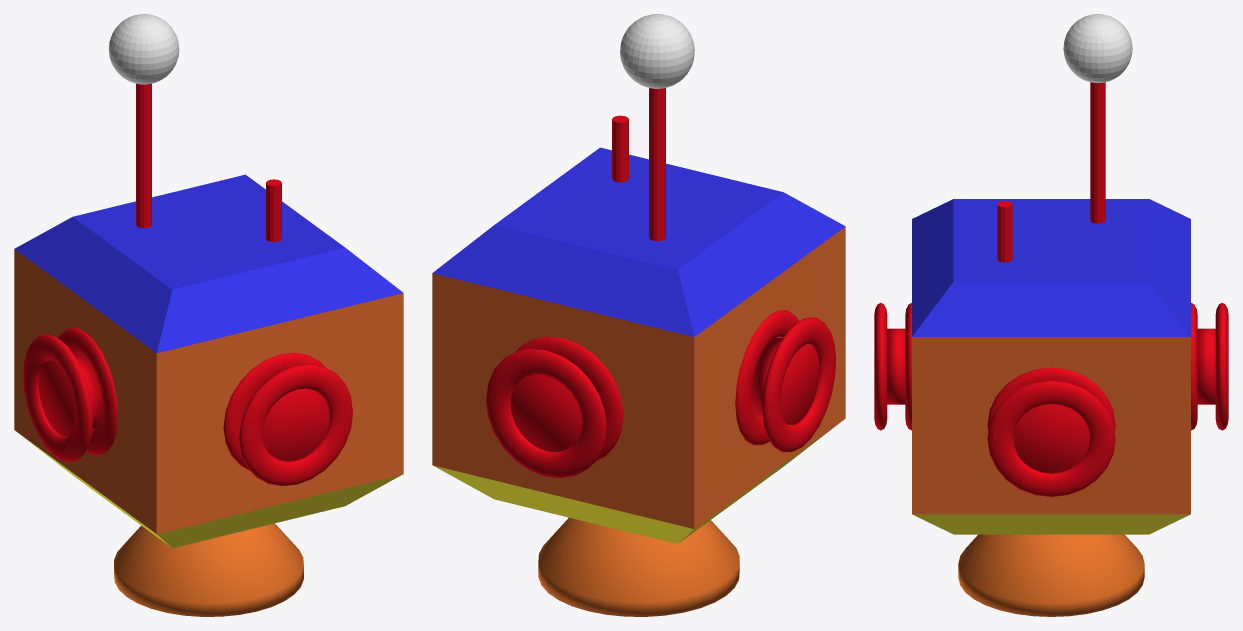
Rendered from BorderCube.fbx.
The picture shows the model from 3 angles, left to right: view 1: azimuth 30°, elevation 25°; view 2: azimuth 150°, elevation 25°; view 3: azimuth 270°, elevation 25°; orthographic projection. The views are drawn at different scales.
Parts seen in each view (by area): view 1: Cube, Nozzle, Connection2, Connection4, Sphere, LongTube, shortTube; view 2: Cube, Nozzle, Connection1, Connection4, Sphere, LongTube, shortTube; view 3: Cube, Nozzle, Connection3, Connection1, Connection2, Sphere, LongTube, shortTube.
Boxes of the visible parts, x1,y1,x2,y2 form: Cube: [14, 174, 403, 548]; Nozzle: [114, 523, 303, 616]; Connection2: [223, 352, 352, 486]; Connection4: [23, 328, 118, 461]; Sphere: [108, 14, 179, 84]; LongTube: [136, 83, 151, 227]; shortTube: [266, 179, 281, 242]; Cube: [432, 147, 845, 543]; Nozzle: [538, 517, 739, 616]; Connection1: [486, 336, 623, 478]; Connection4: [735, 310, 835, 452]; Sphere: [620, 14, 694, 88]; LongTube: [649, 88, 665, 241]; shortTube: [612, 115, 628, 182]; Cube: [912, 199, 1190, 534]; Nozzle: [958, 534, 1144, 616]; Connection3: [987, 367, 1115, 496]; Connection1: [1191, 303, 1228, 430]; Connection2: [874, 303, 911, 430]; Sphere: [1063, 14, 1132, 82]; LongTube: [1090, 82, 1105, 223]; shortTube: [997, 201, 1012, 262].
Bounding box in the file's own units: 2285 × 3846 × 2285.
